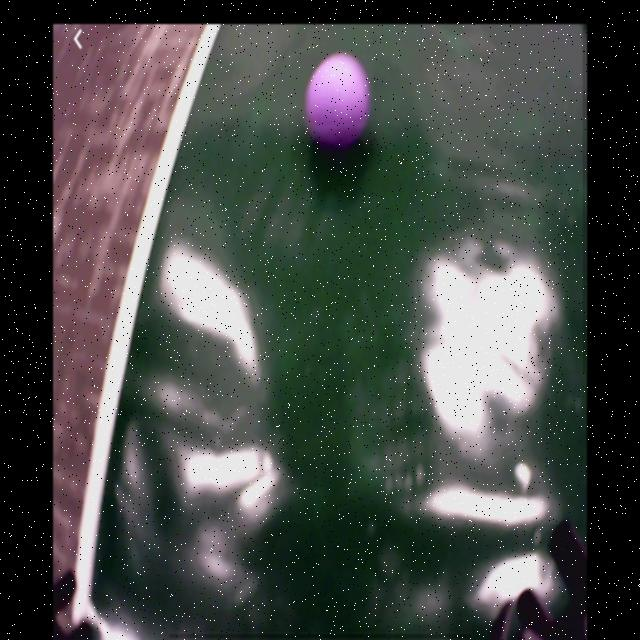ball: (307, 55, 369, 149)
